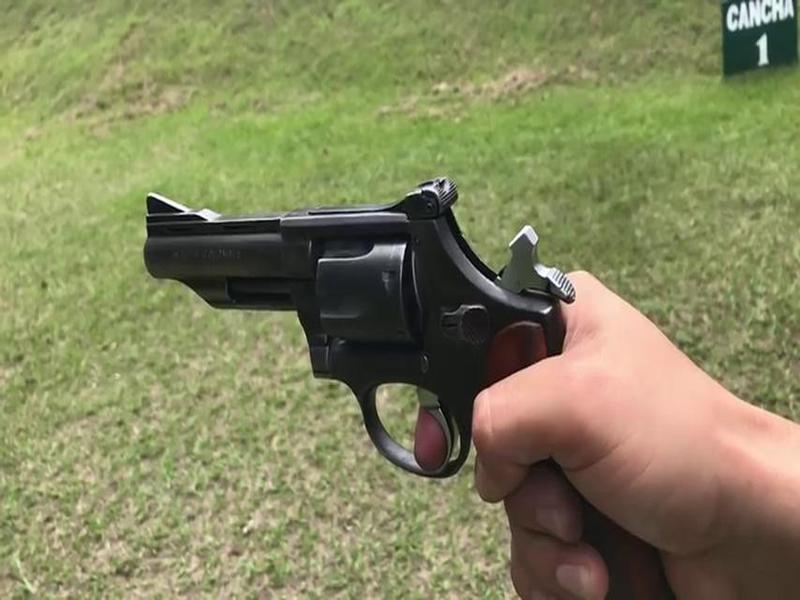Revolver: (123, 159, 582, 520)
